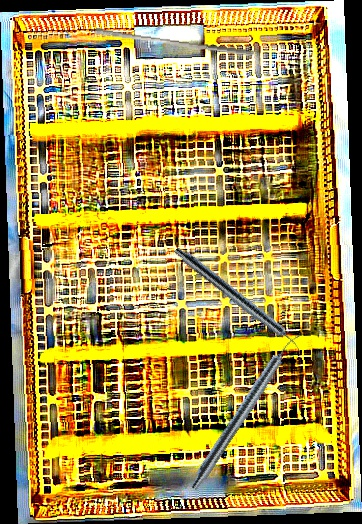Handpiece: (187, 327, 304, 494), (170, 244, 308, 357)
Pusher: (93, 27, 256, 57)
